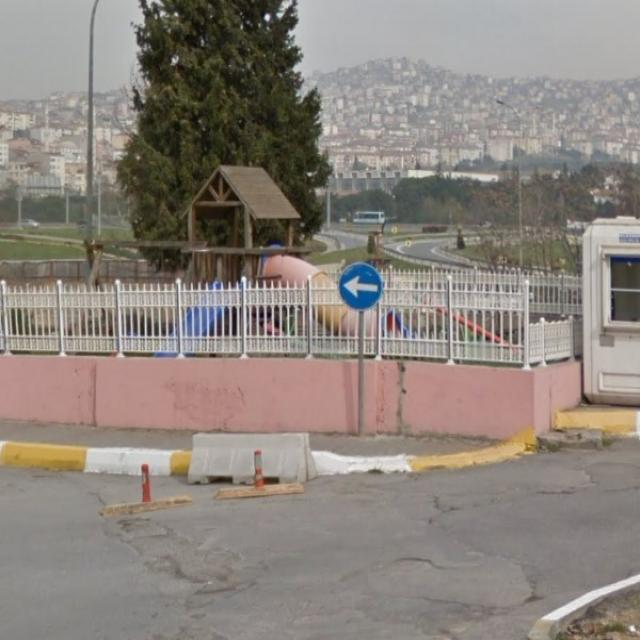Turn Left: (339, 257, 385, 311)
